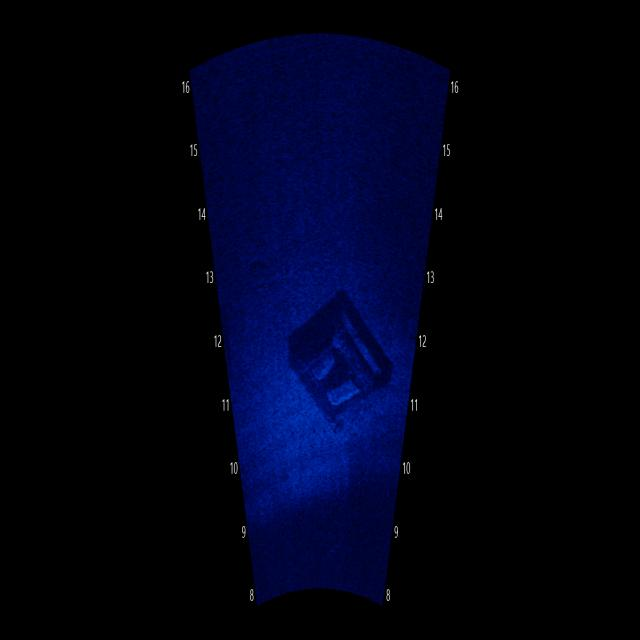square: (278, 280, 393, 438)
